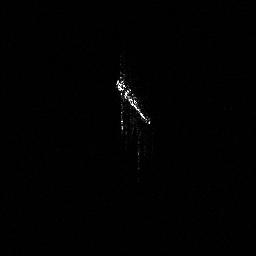ship: (112, 71, 154, 136)
